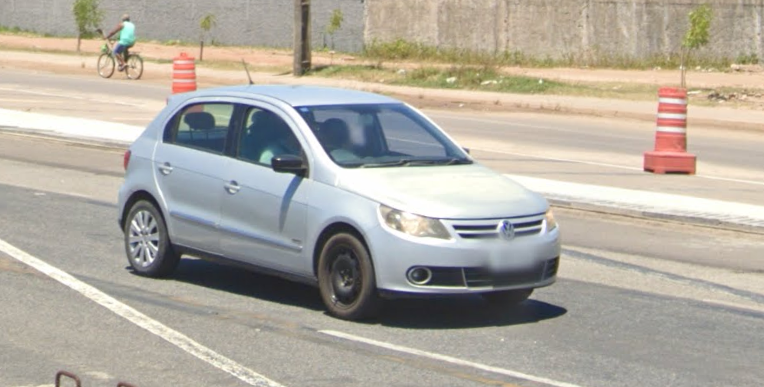car: (115, 66, 565, 319)
